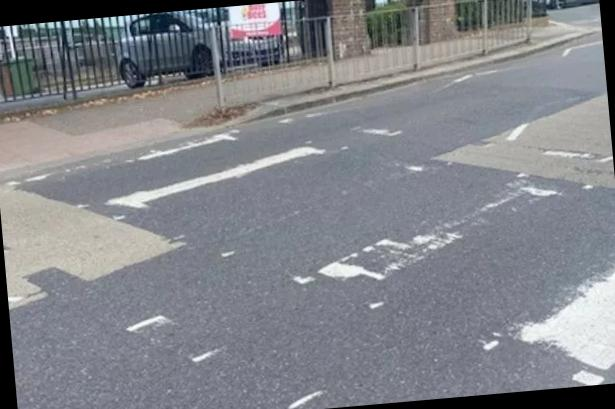faded_road_lines: (0, 67, 615, 409), (390, 27, 612, 166)
